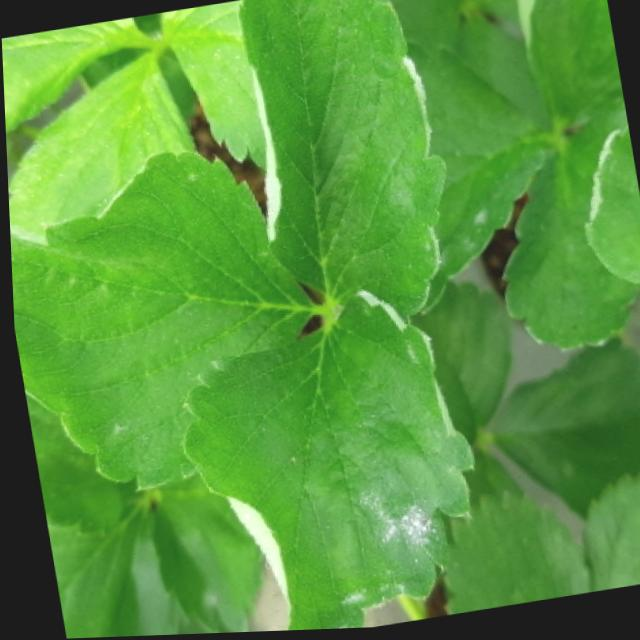Powdery Mildew Leaf: (8, 148, 312, 490), (177, 290, 470, 633), (235, 0, 442, 320), (404, 44, 554, 313), (513, 0, 623, 140), (577, 121, 640, 288)
